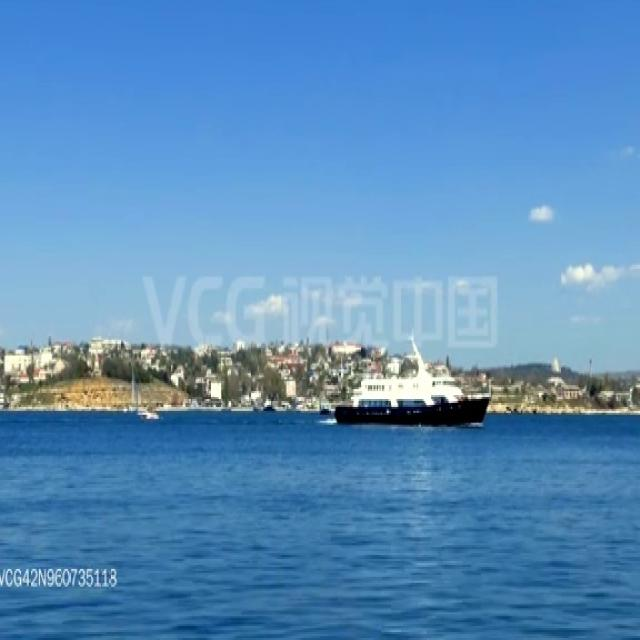passenger ship: (335, 359, 489, 424)
